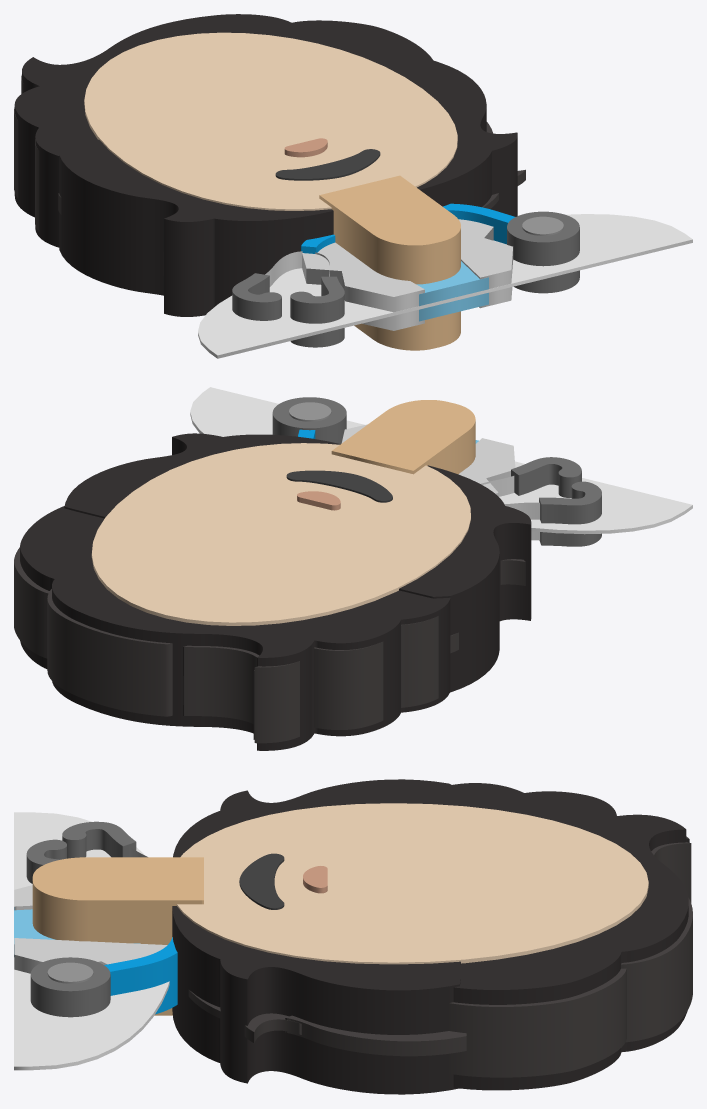
Rendered from emoji_u1f9d1_1f3fb_200d_2695.glb.
3 renders of one model, top to bottom at view 1: azimuth 30°, elevation 25°; view 2: azimuth 150°, elevation 25°; view 3: azimuth 270°, elevation 25°, orthographic. The views are drawn at different scales.
Parts seen in each view (by area): view 1: emoji_u1f9d1_1f3fb_200d_2695; view 2: emoji_u1f9d1_1f3fb_200d_2695; view 3: emoji_u1f9d1_1f3fb_200d_2695.
Part boxes in pixels (x1,y1,x2,y2): emoji_u1f9d1_1f3fb_200d_2695: [14, 14, 692, 358]; emoji_u1f9d1_1f3fb_200d_2695: [14, 387, 692, 750]; emoji_u1f9d1_1f3fb_200d_2695: [14, 779, 692, 1094].
Bounding box in the file's own units: 0.0293 × 0.0064 × 0.0331.
